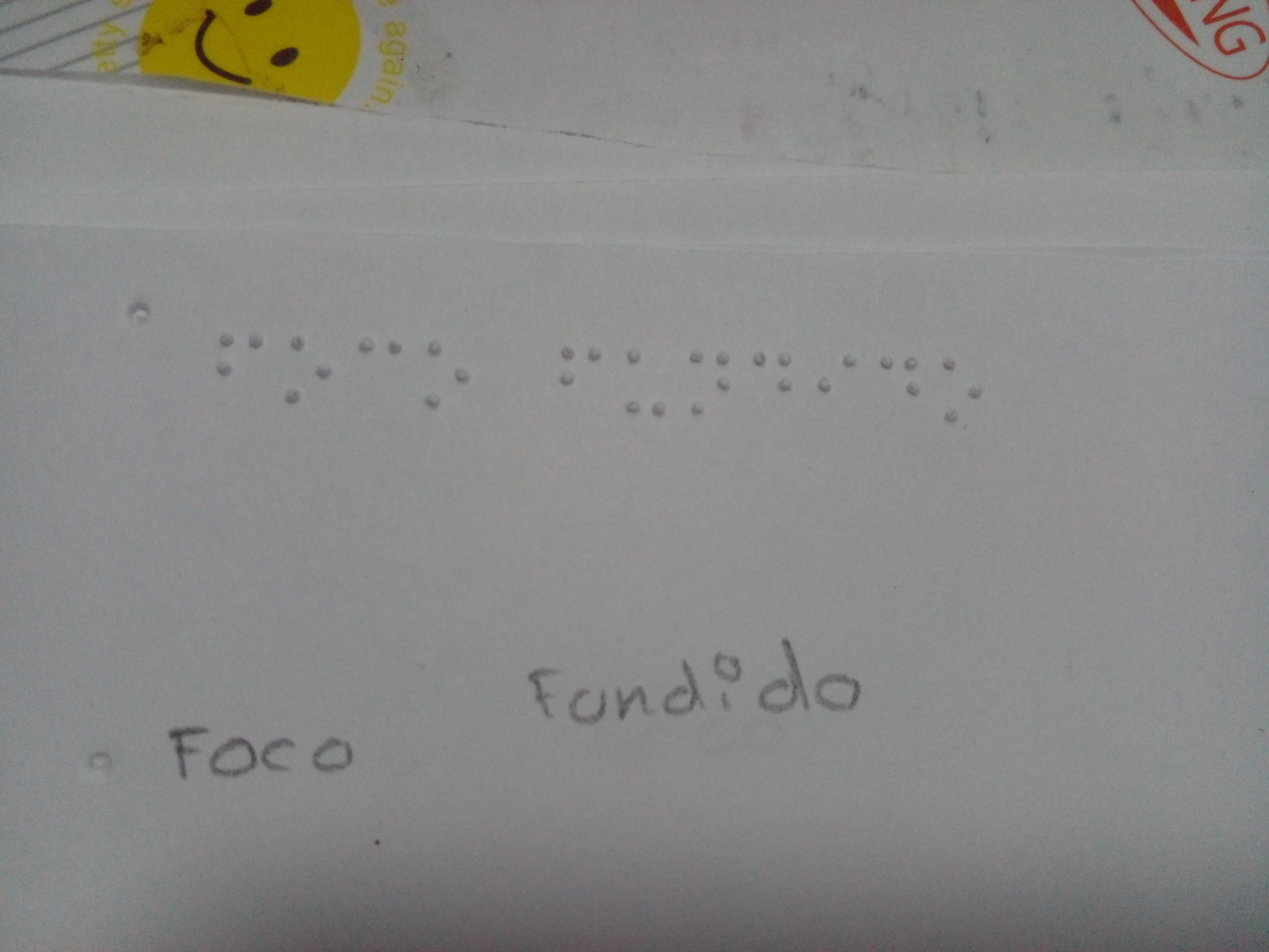c: (355, 319, 401, 400)
d: (748, 346, 798, 414), (877, 339, 923, 411)
f: (209, 316, 268, 397), (545, 333, 607, 406)
i: (810, 339, 866, 412)
n: (680, 341, 733, 421)
o: (926, 344, 991, 440), (279, 327, 336, 423), (411, 327, 472, 415)
u: (615, 333, 668, 429)
